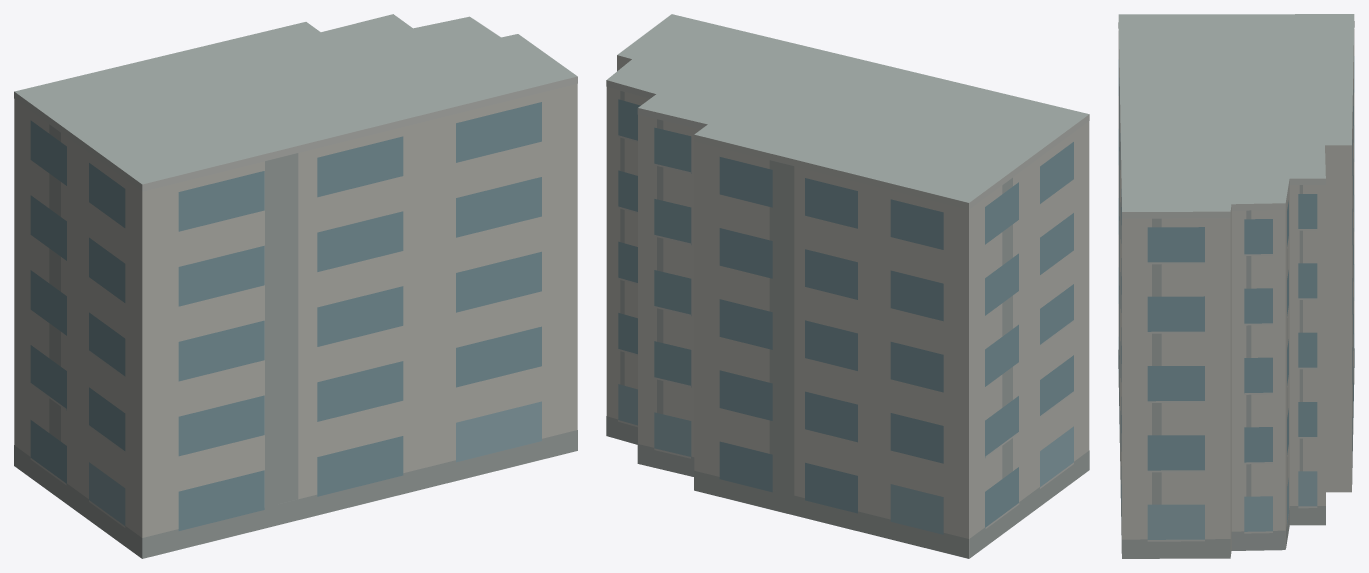
File: survey-upis-32907169.glb
3 renders of one model, left to right at view 1: azimuth 30°, elevation 25°; view 2: azimuth 150°, elevation 25°; view 3: azimuth 270°, elevation 25°, orthographic. The views are drawn at different scales.
Visible parts, largest first — view 1: survey-upis-32907169.tmp; view 2: survey-upis-32907169.tmp; view 3: survey-upis-32907169.tmp.
Boxes of the visible parts, left/top/right/bottom form: survey-upis-32907169.tmp: left=14, top=14, right=577, bottom=558; survey-upis-32907169.tmp: left=606, top=14, right=1089, bottom=558; survey-upis-32907169.tmp: left=1118, top=14, right=1354, bottom=558.
Bounding box in the file's own units: 15.7 × 12.8 × 7.9.
